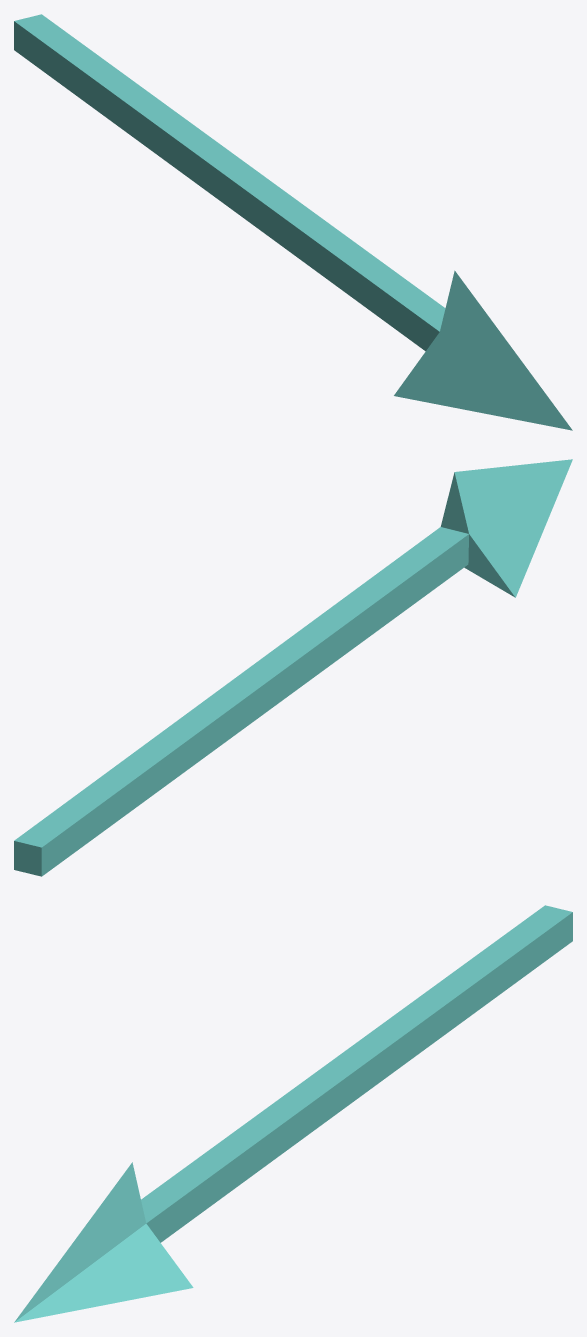
File: IceSpear.fbx
3 renders of one model, top to bottom at view 1: azimuth 30°, elevation 25°; view 2: azimuth 150°, elevation 25°; view 3: azimuth 330°, elevation 25°, orthographic.
Parts seen in each view (by area): view 1: shaft; view 2: shaft; view 3: shaft.
Boxes of the visible parts, x1=… form: shaft: x1=14, y1=14, x2=572, y2=430; shaft: x1=14, y1=459, x2=572, y2=876; shaft: x1=14, y1=905, x2=572, y2=1322.
Size of the model in its own units: 61.64 by 53.38 by 476.
